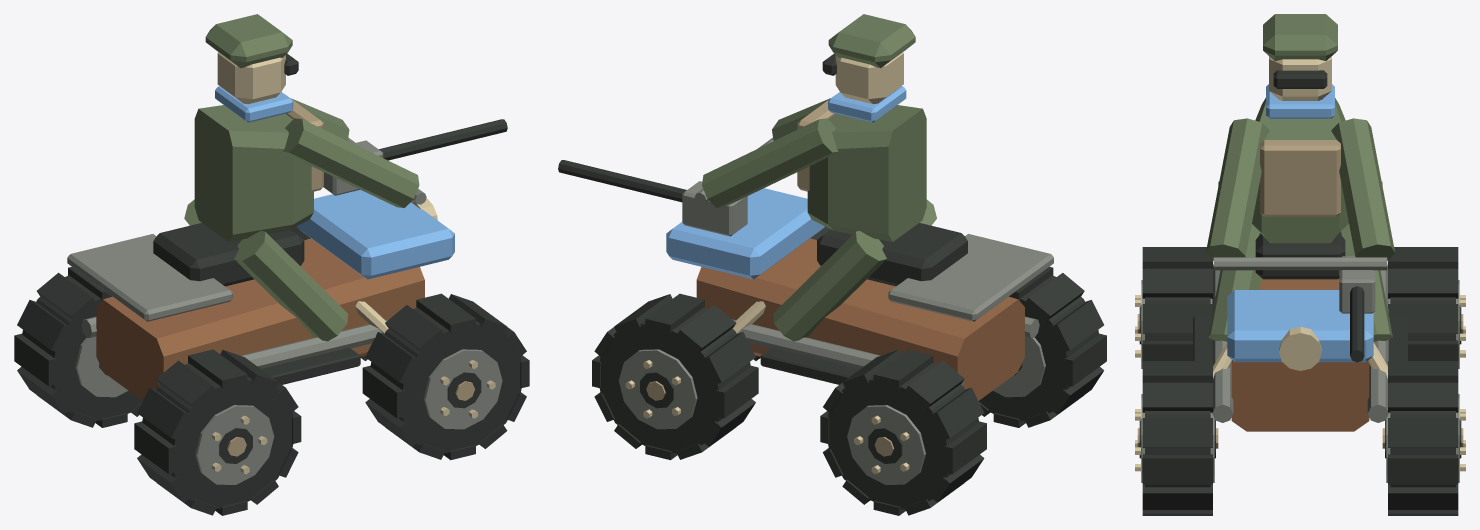
The model's file is raider_quad.glb.
The picture shows the model from 3 angles, left to right: view 1: azimuth 30°, elevation 25°; view 2: azimuth 150°, elevation 25°; view 3: azimuth 270°, elevation 25°; orthographic projection. The views are drawn at different scales.
Visible parts, largest first — view 1: raider_quad; view 2: raider_quad; view 3: raider_quad.
Part boxes in pixels (bbox=[...]): raider_quad: bbox=[14, 14, 529, 515]; raider_quad: bbox=[558, 14, 1106, 515]; raider_quad: bbox=[1135, 14, 1465, 515].
Size of the model in its own units: 1.76 by 1.55 by 1.12.
